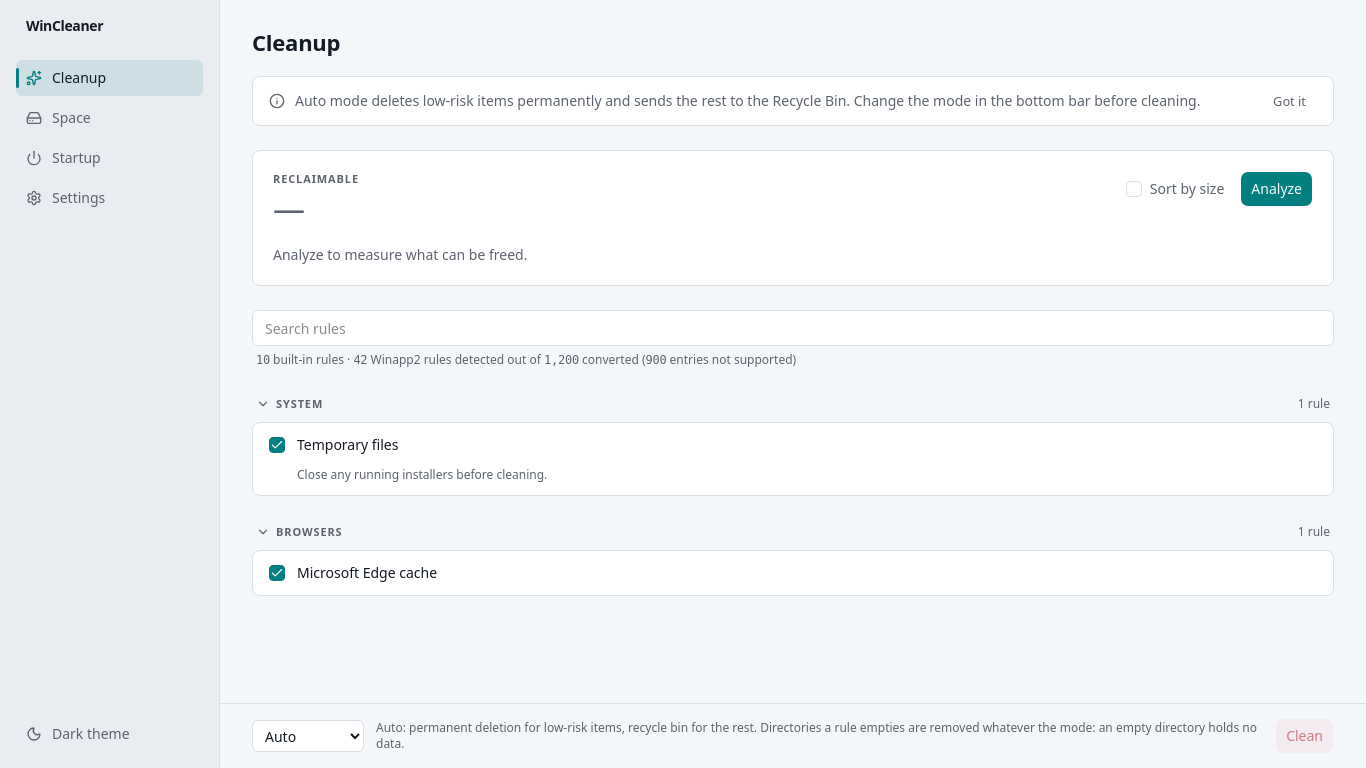
Test case: accessibility › every tab stop on the cleanup screen has a focus ring
This screenshot has width=1366, height=768.
Check: the checkbox named "Temporary files" is shown, box x1=269 y1=437 x2=285 y2=453
What coordinates should you click on to do the following:
click the button "Analyze"
I would click on:
 (1277, 189)
Its box is x1=1240 y1=171 x2=1313 y2=207.
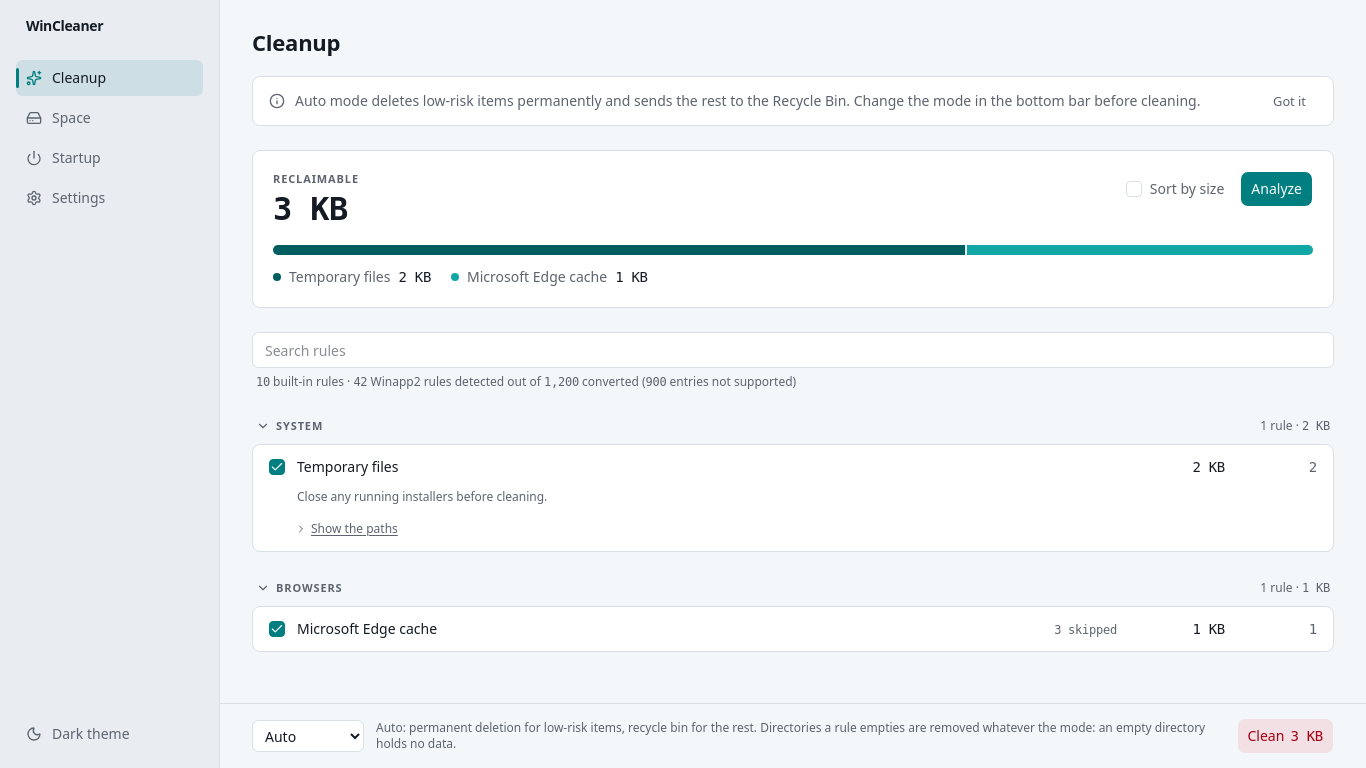
Check: the text with test id "total-bytes" is shown, box x1=273 y1=193 x2=359 y2=225
